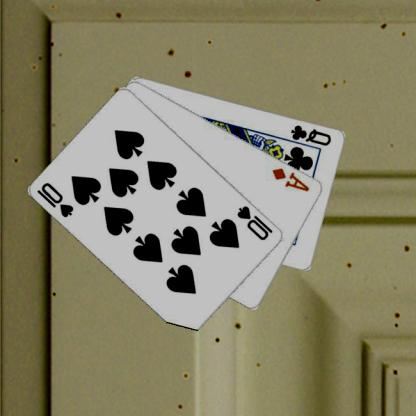10S: (35, 179, 76, 219), (234, 203, 275, 242)
AD: (269, 165, 311, 194)
QC: (288, 122, 333, 147)
